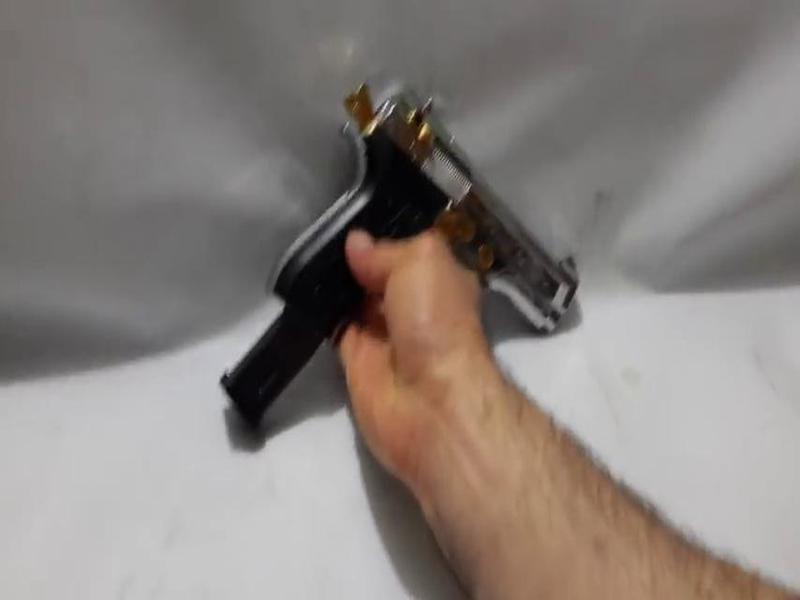Pistola: (283, 75, 587, 345)
